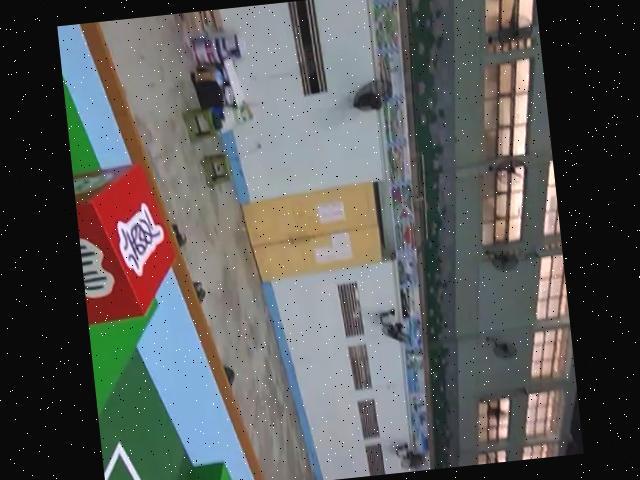R2 Fake: (71, 157, 185, 327)
